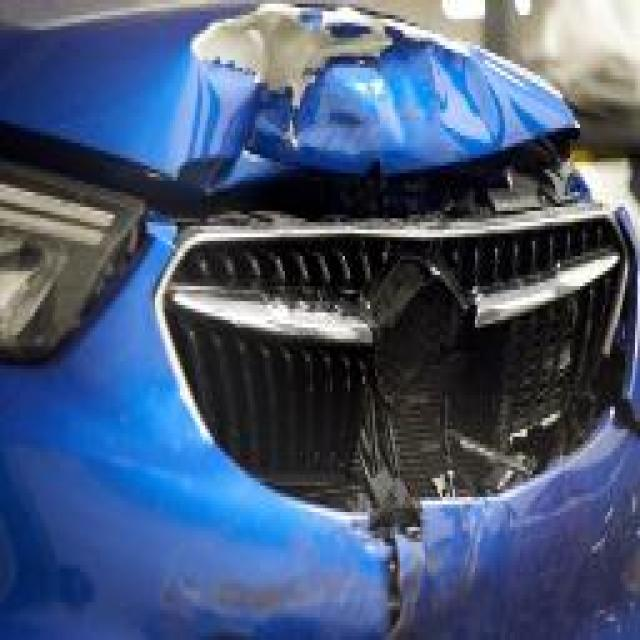Bonnet: (0, 0, 582, 206)
Bumper: (61, 225, 640, 640)
